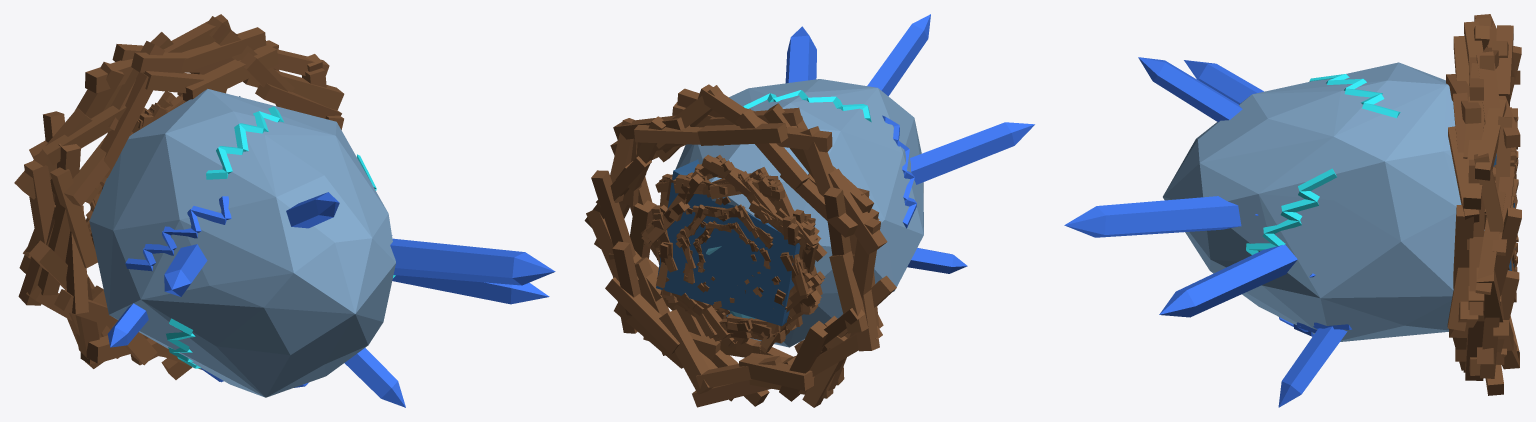
Rendered from Geodas_Zona3.fbx.
3 views of the same model, side by side, from view 1: azimuth 30°, elevation 25°; view 2: azimuth 150°, elevation 25°; view 3: azimuth 270°, elevation 25° (orthographic). The views are drawn at different scales.
Parts seen in each view (by area): view 1: Roca.003, Base.003, Cristales.003, Grietas2.003, Grietas.003, Base.002; view 2: Base.003, Roca.003, Roca.009, Cristales.003, Base.009, Base.002, Base.006, Base.015, Base.012, Grietas2.003, Grietas.003, Base.011 (+4 smaller); view 3: Roca.003, Base.003, Cristales.003, Grietas2.003, Grietas.003.
Part boxes in pixels (box(x1,y1,x2,y2)): Roca.003: box(89, 89, 395, 397); Base.003: box(14, 14, 344, 379); Cristales.003: box(107, 192, 555, 407); Grietas2.003: box(166, 106, 395, 368); Grietas.003: box(125, 196, 308, 387); Base.002: box(89, 91, 184, 237); Base.003: box(584, 84, 896, 407); Roca.003: box(653, 79, 923, 347); Roca.009: box(656, 159, 800, 326); Cristales.003: box(785, 14, 1034, 273); Base.009: box(641, 162, 825, 349); Base.002: box(652, 154, 821, 347); Base.006: box(641, 157, 824, 342); Base.015: box(643, 155, 827, 346); Base.012: box(643, 156, 821, 353); Grietas2.003: box(743, 90, 871, 122); Grietas.003: box(882, 115, 916, 228); Base.011: box(682, 205, 773, 314); Roca.003: box(1163, 62, 1484, 341); Base.003: box(1446, 14, 1521, 395); Cristales.003: box(1064, 57, 1347, 407); Grietas2.003: box(1246, 74, 1400, 254); Grietas.003: box(1279, 317, 1351, 336).
Bounding box in the file's own units: 4.8 × 4.43 × 5.42.
